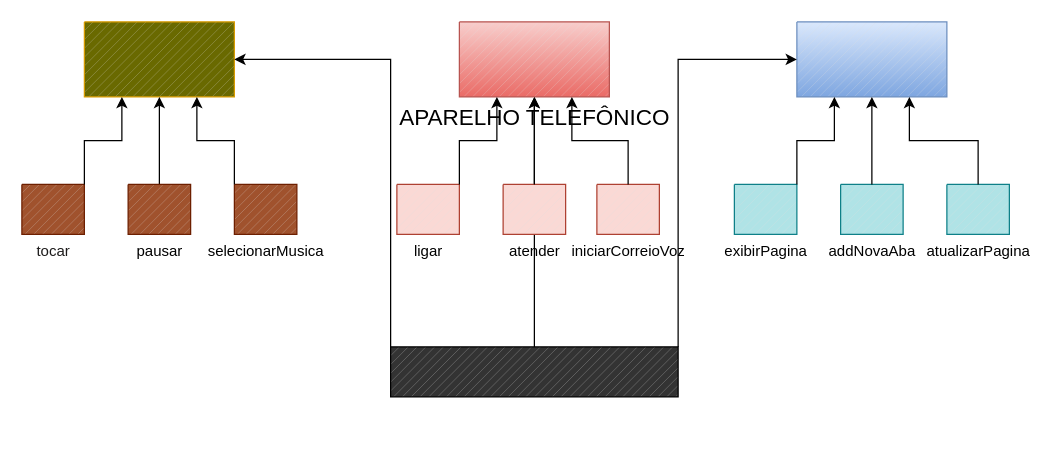
The diagram is 1051 pixels wide and 470 high, and some of its shapes have lost their labels. Here are the shapes that lost their labels. From the top down, the centre of each, then its label:
(x=158, y=59): REPRODUTOR MUSICAL
(x=871, y=59): NAVEGADOR NA INTERNET
(x=533, y=371): IPHONE
